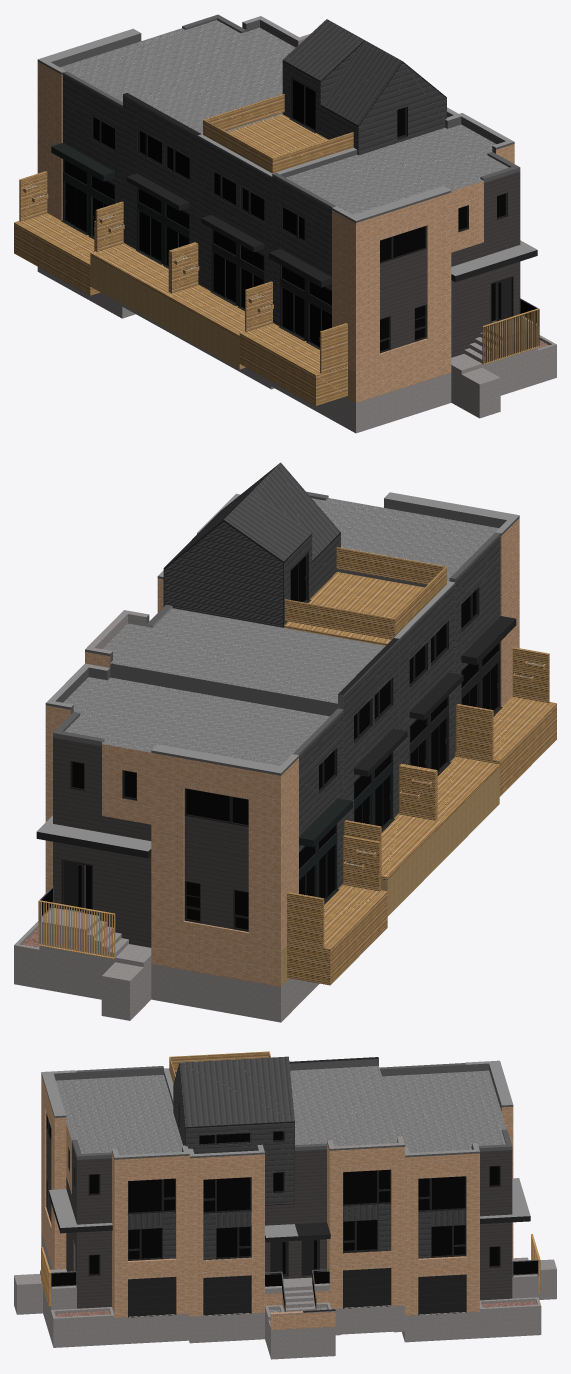
Rendered from Houses1.FBX.
The picture shows the model from 3 angles, top to bottom: view 1: azimuth 30°, elevation 25°; view 2: azimuth 150°, elevation 25°; view 3: azimuth 270°, elevation 25°; orthographic projection. The views are drawn at different scales.
Parts seen in each view (by area): view 1: Mesh24, Frame_1_2, fen_4pi_05, Group867; view 2: Mesh24, fen_4pi_05, Frame_1_2, Group867, Mesh05; view 3: Mesh24, fen_4pi_05, Group867, Mesh06, Mesh25, Group1, Group1084.
Part boxes in pixels (bbox=[...]): Mesh24: bbox=[14, 14, 556, 433]; Frame_1_2: bbox=[61, 77, 331, 349]; fen_4pi_05: bbox=[91, 106, 513, 353]; Group867: bbox=[203, 94, 353, 173]; Mesh24: bbox=[14, 462, 556, 1022]; fen_4pi_05: bbox=[61, 587, 479, 931]; Frame_1_2: bbox=[290, 551, 502, 904]; Group867: bbox=[285, 547, 446, 639]; Mesh05: bbox=[186, 882, 248, 916]; Mesh24: bbox=[14, 1056, 556, 1359]; fen_4pi_05: bbox=[46, 1102, 500, 1317]; Group867: bbox=[169, 1051, 271, 1083]; Mesh06: bbox=[431, 1209, 466, 1226]; Mesh25: bbox=[128, 1212, 162, 1229]; Group1: bbox=[512, 1259, 538, 1277]; Group1084: bbox=[51, 1271, 76, 1288].
Size of the model in its own units: 663 by 595 by 1112.
Materials: 25 (18 with a texture image).
